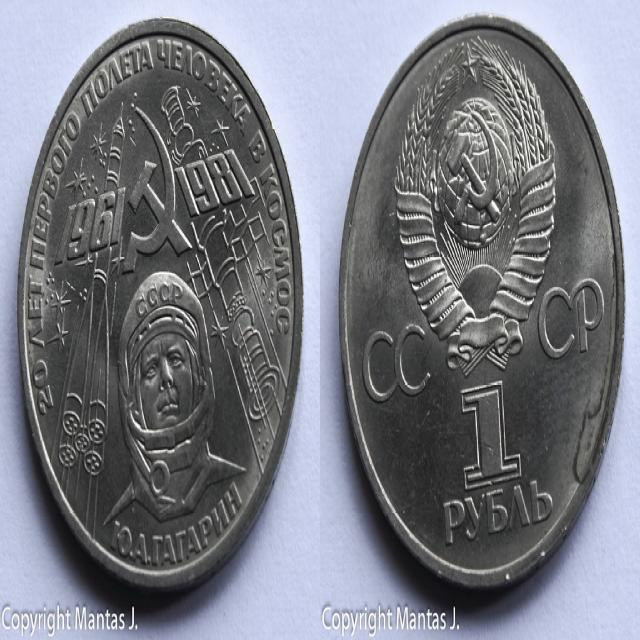Coin: (338, 13, 626, 591), (20, 12, 303, 593)
